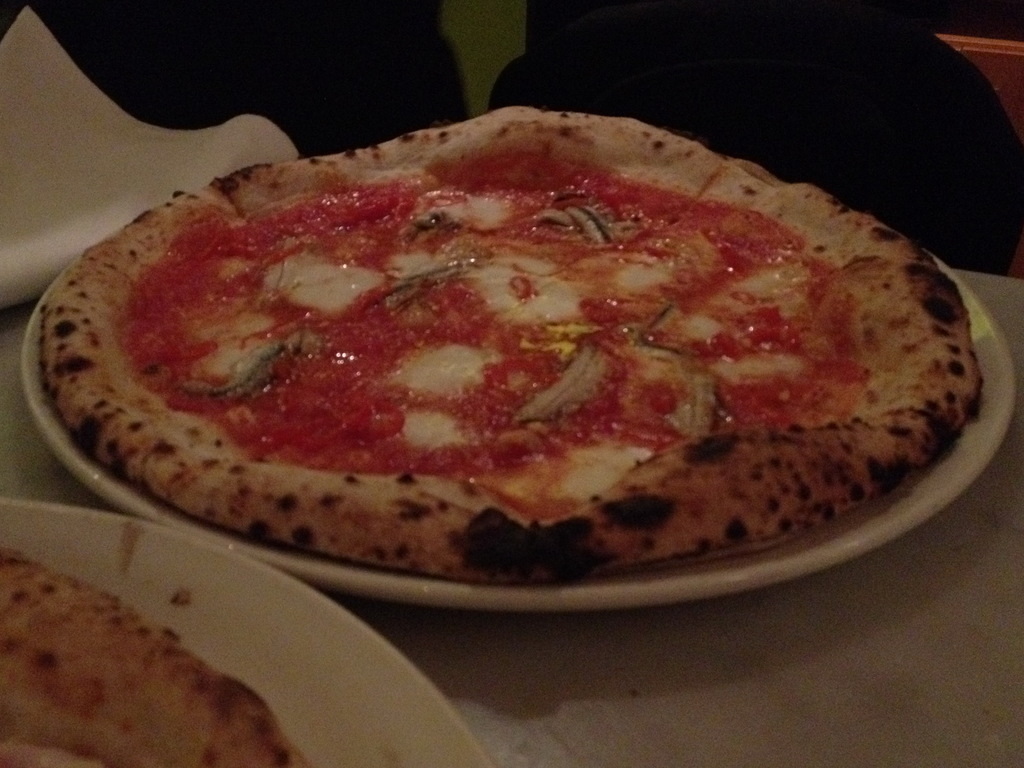Pizza: (43, 98, 983, 586), (0, 551, 305, 767)
